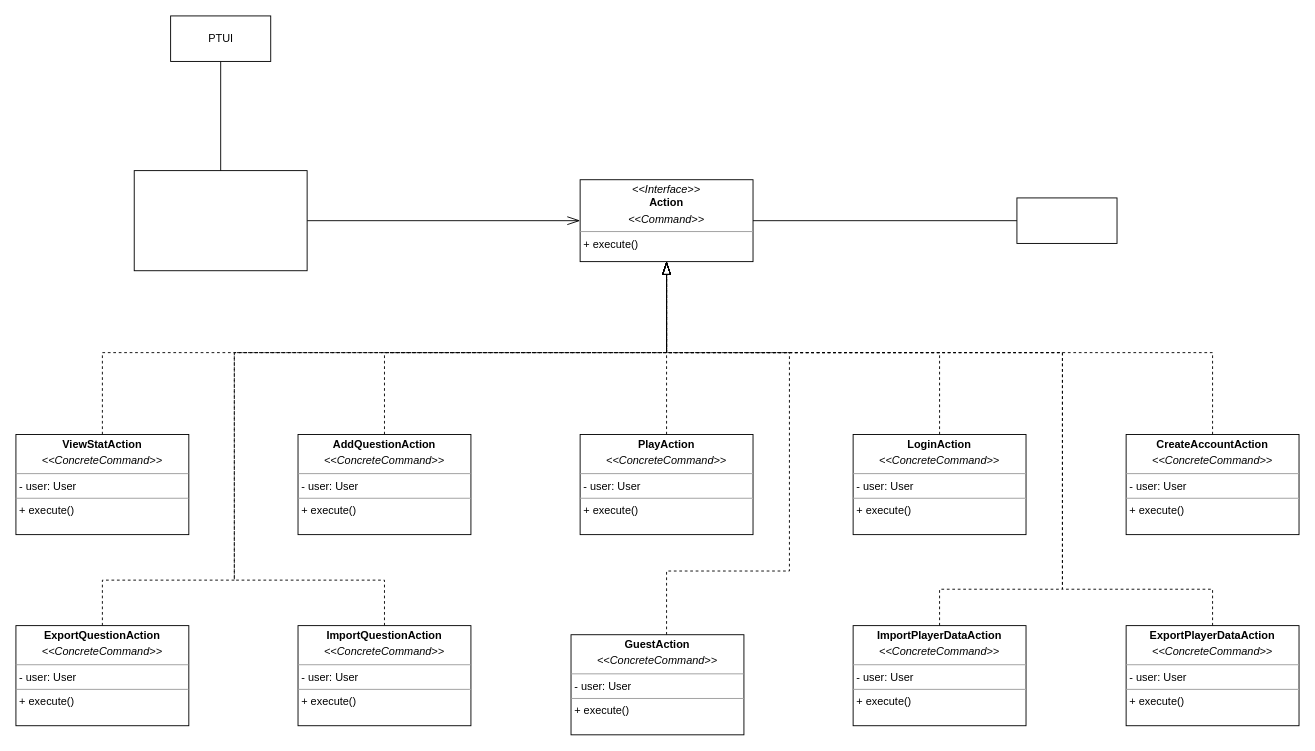
Some shapes in this 1315 by 751 pixel diagram are drawn without their labels. The centre of each missing label's shape, as x and y in pixels:
"Menu <<Invoker>> - user: User + execute()" goes at (x=220, y=220).
"User" goes at (x=1066, y=220).
